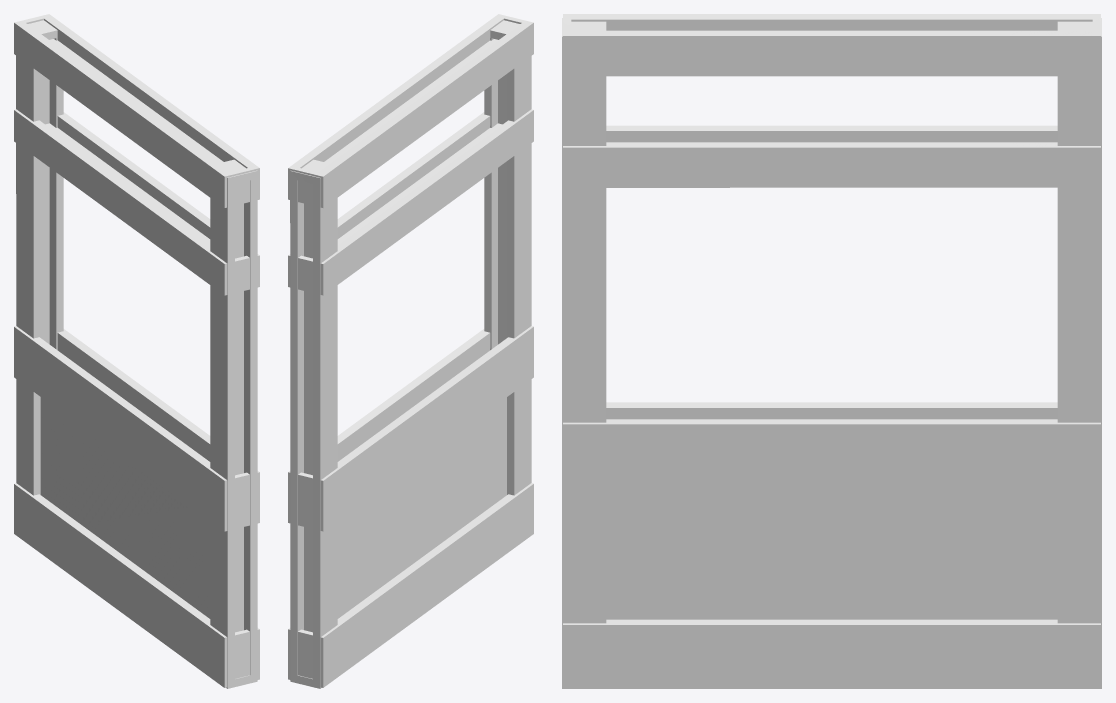
File: Pfb_GlassWall__2.fbx
3 views of the same model, side by side, from view 1: azimuth 30°, elevation 25°; view 2: azimuth 150°, elevation 25°; view 3: azimuth 270°, elevation 25° (orthographic). The views are drawn at different scales.
Parts seen in each view (by area): view 1: Mat_SteelFrame_01 10, Duck 6; view 2: Mat_SteelFrame_01 10, Duck 6; view 3: Mat_SteelFrame_01 10, Duck 6.
Boxes of the visible parts, x1,y1,x2,y2 form: Mat_SteelFrame_01 10: (14,14,259,688); Duck 6: (40,397,210,618); Mat_SteelFrame_01 10: (288,14,533,688); Duck 6: (337,397,506,618); Mat_SteelFrame_01 10: (562,14,1101,688); Duck 6: (606,489,1057,619).
Bounding box in the file's own units: 0.2893 × 4.01 × 3.
2 materials, 2 textured.
